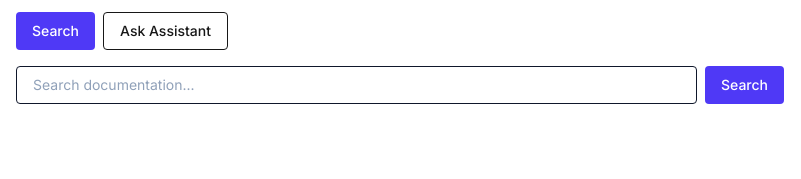
Test case: SearchPage › shows 'No results found' message after a search returns an empty results array
Type "nomatch" into the field with placeholder "Search documentation..." at (356, 85), box x1=16 y1=66 x2=697 y2=104
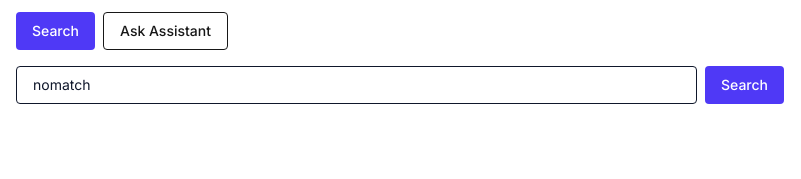
Press Enter in the field with placeholder "Search documentation...", box x1=16 y1=66 x2=697 y2=104
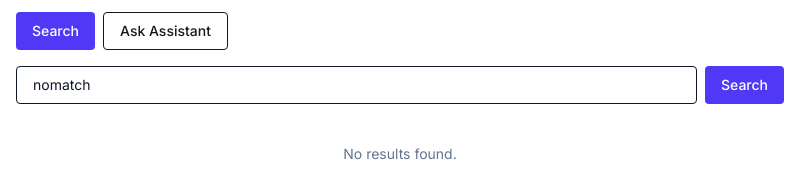
Expected: the text "No results found." is shown, x1=343 y1=145 x2=457 y2=162
